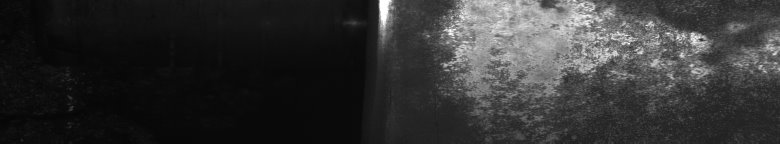kb: (422, 4, 776, 134)
